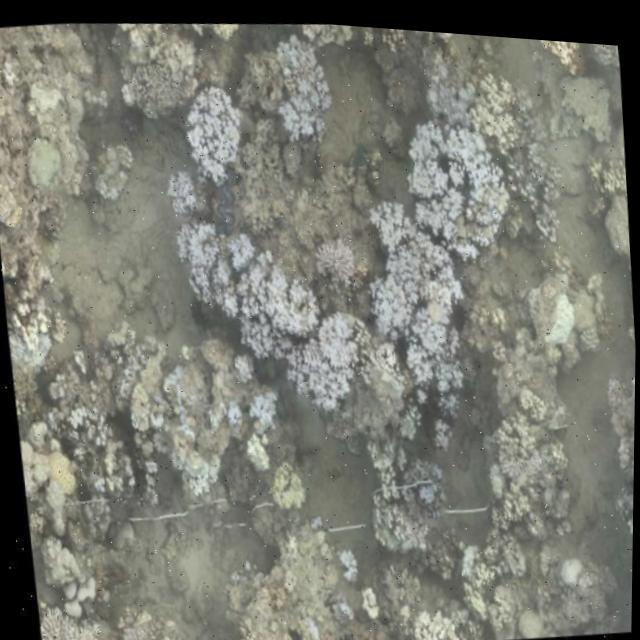Bleached Coral: (154, 203, 365, 429), (355, 180, 473, 415), (392, 61, 514, 261), (261, 17, 340, 152), (595, 355, 636, 613), (169, 69, 257, 189), (388, 451, 451, 518), (317, 527, 365, 588)
